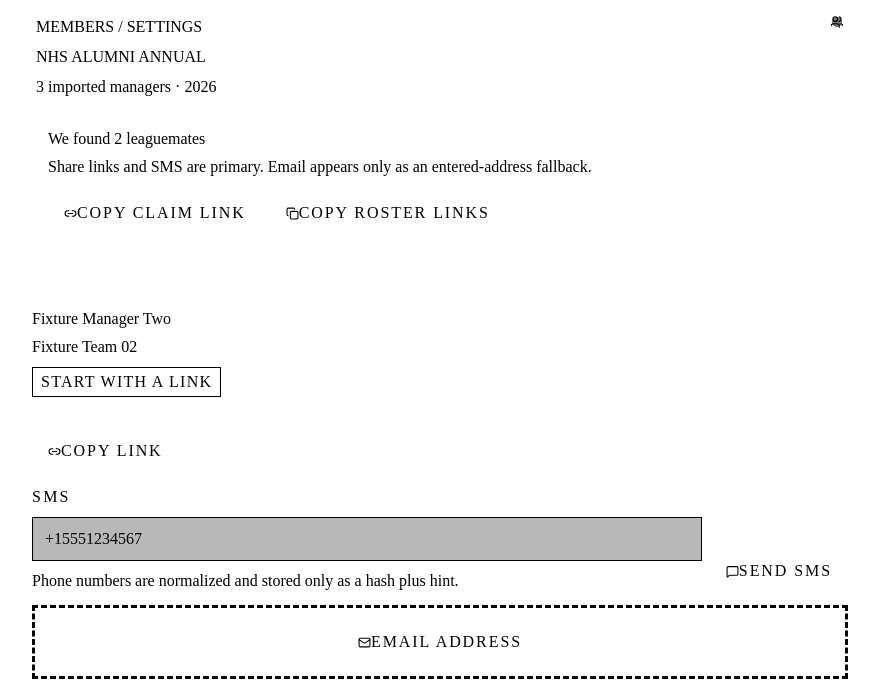
it: invite view reports copying as unavailable outside a secure context
Click the button "Copy roster links" at (388, 213), box [270, 191, 506, 235]
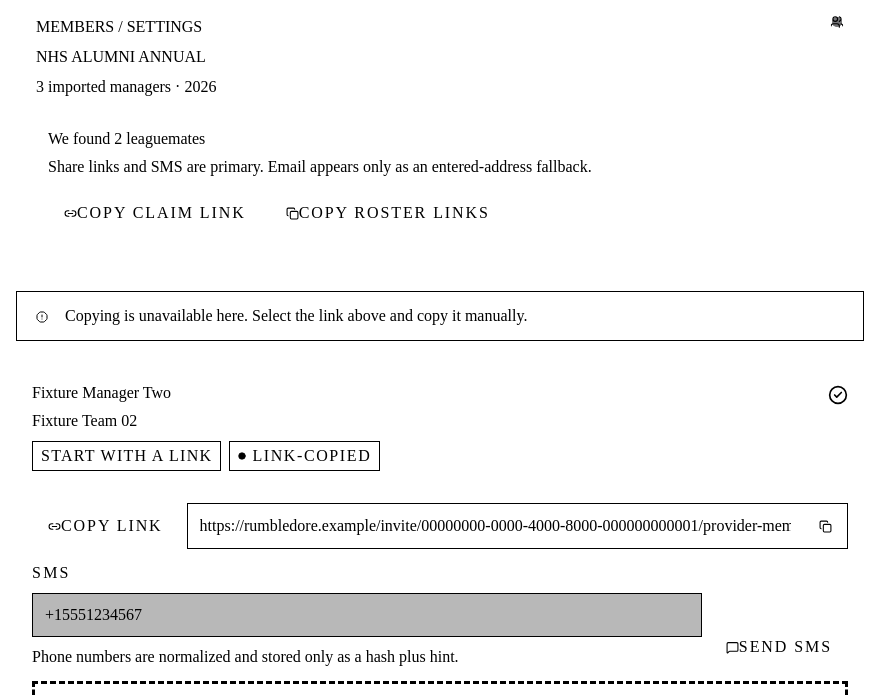
Now the text "Copying is unavailable here" is shown, box [65, 307, 527, 324]
